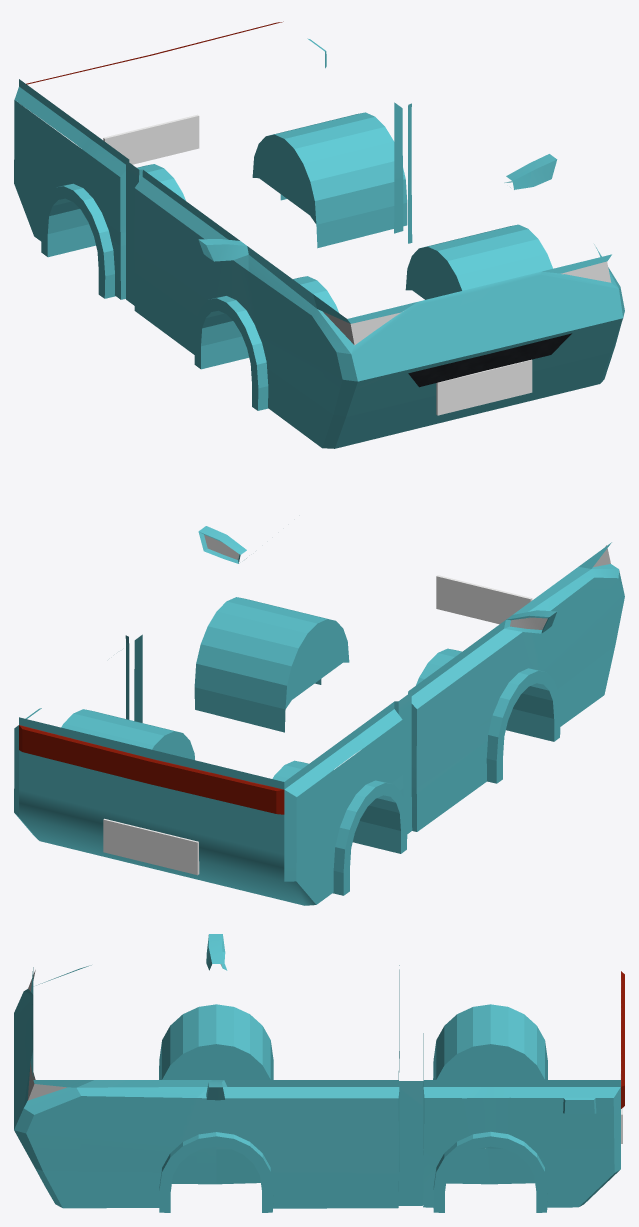
File: EV-BOTTOM--CkUwJSc.glb
The picture shows the model from 3 angles, top to bottom: view 1: azimuth 30°, elevation 25°; view 2: azimuth 150°, elevation 25°; view 3: azimuth 270°, elevation 25°; orthographic projection. The views are drawn at different scales.
Bounding box in the file's own units: 1.98 × 0.8247 × 3.34.
3 materials, 3 textured.
